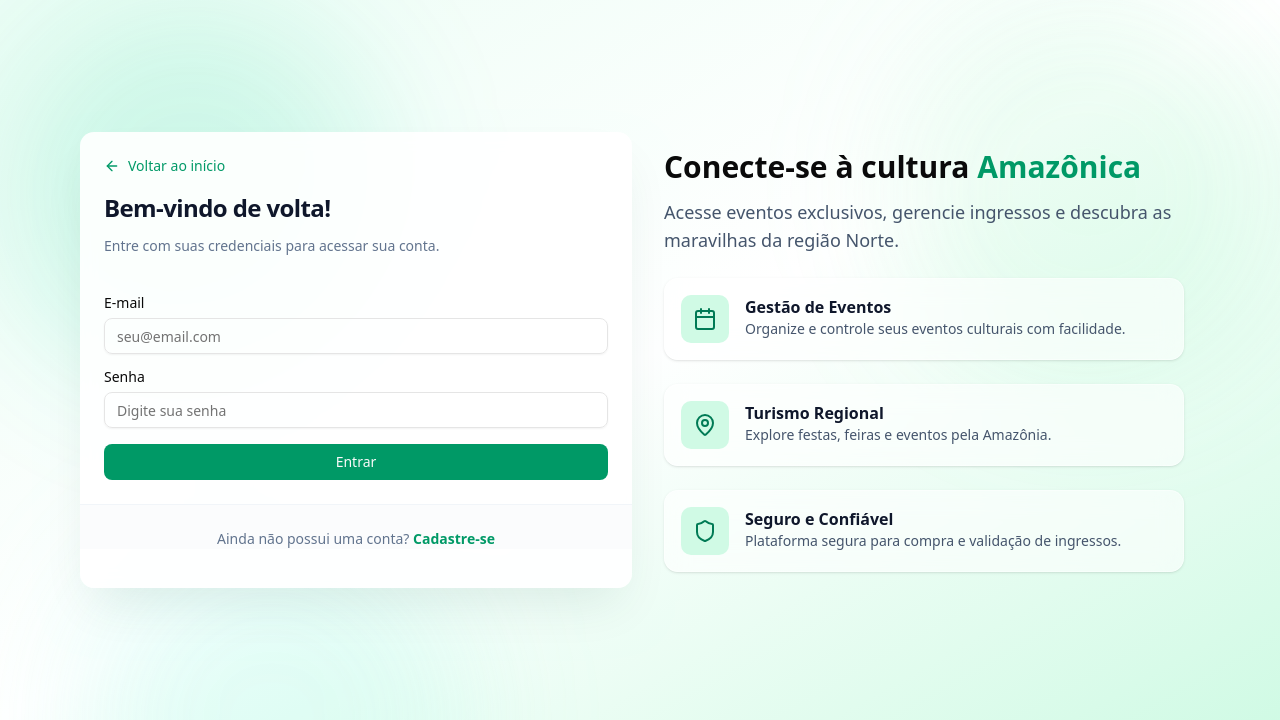
Login Page › exibe erros de validação ao submeter formulário vazio
The width and height of the screenshot is (1280, 720).
Click the button "Entrar": (356, 462) [104,444,608,480]
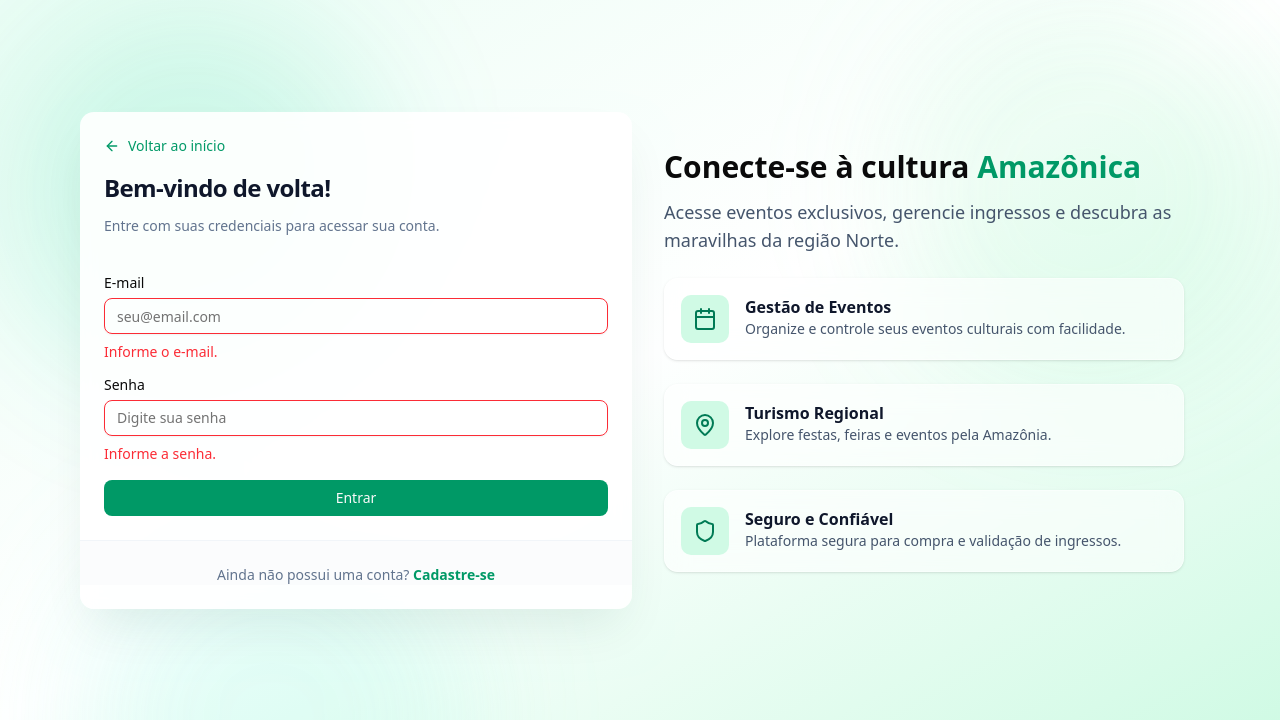
Result: the text "Informe o e-mail." is shown at [104,342,218,360]
Result: the text "Informe a senha." is shown at [104,444,216,462]
